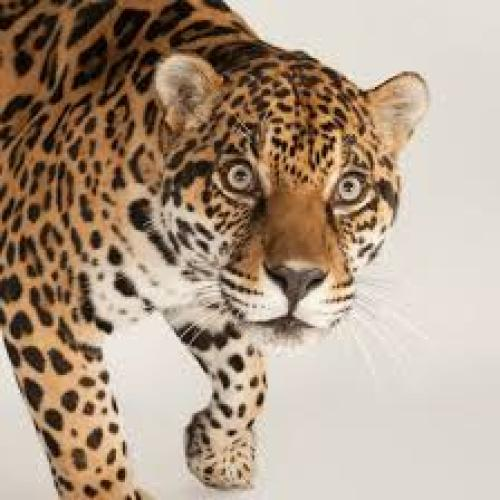jaguar_not-endangered: (0, 0, 434, 494)
